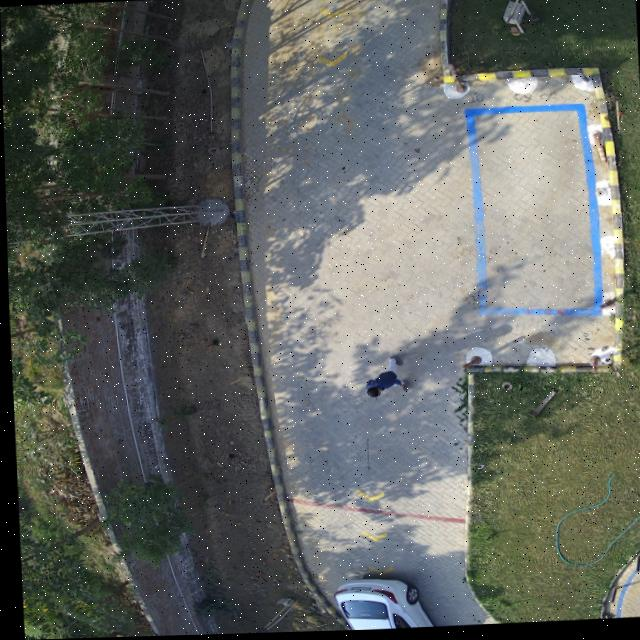car: (332, 574, 436, 632)
